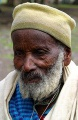male: (6, 23, 69, 95)
